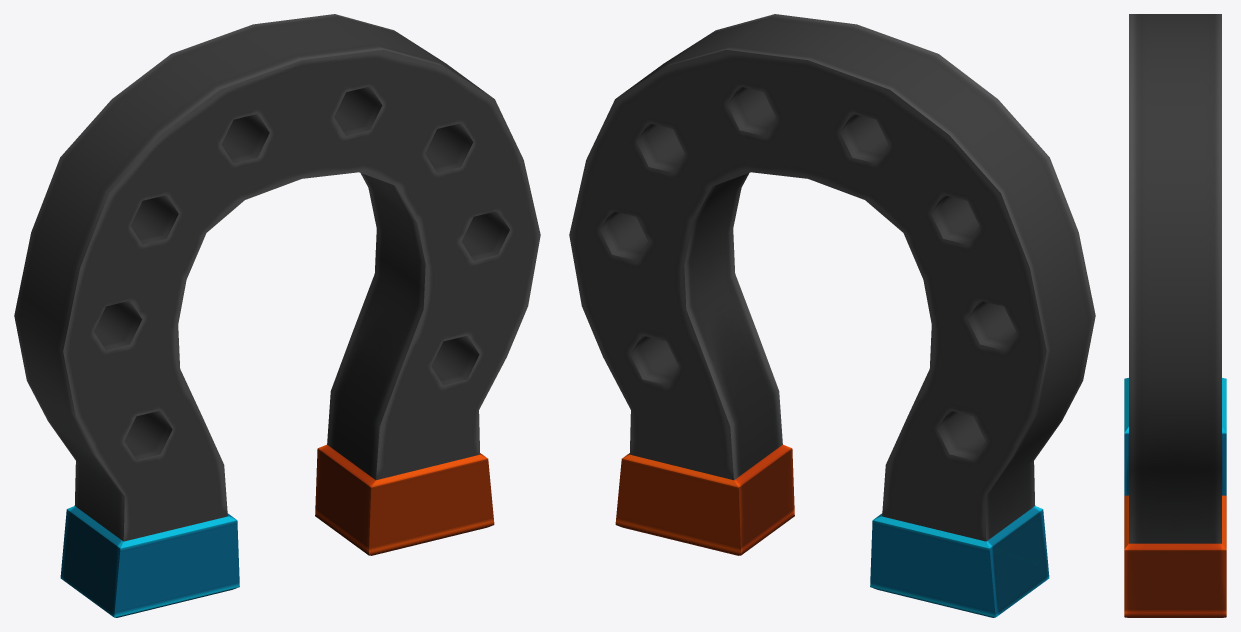
Rendered from pusher_magnet.FBX.
3 views of the same model, side by side, from view 1: azimuth 30°, elevation 25°; view 2: azimuth 150°, elevation 25°; view 3: azimuth 270°, elevation 25° (orthographic). The views are drawn at different scales.
Parts seen in each view (by area): view 1: pusher_magnet; view 2: pusher_magnet; view 3: pusher_magnet.
Boxes of the visible parts, left/top/right/bottom form: pusher_magnet: left=14, top=14, right=540, bottom=617; pusher_magnet: left=569, top=14, right=1095, bottom=617; pusher_magnet: left=1124, top=14, right=1226, bottom=617.
Bounding box in the file's own units: 94.79 × 97.19 × 18.47.
